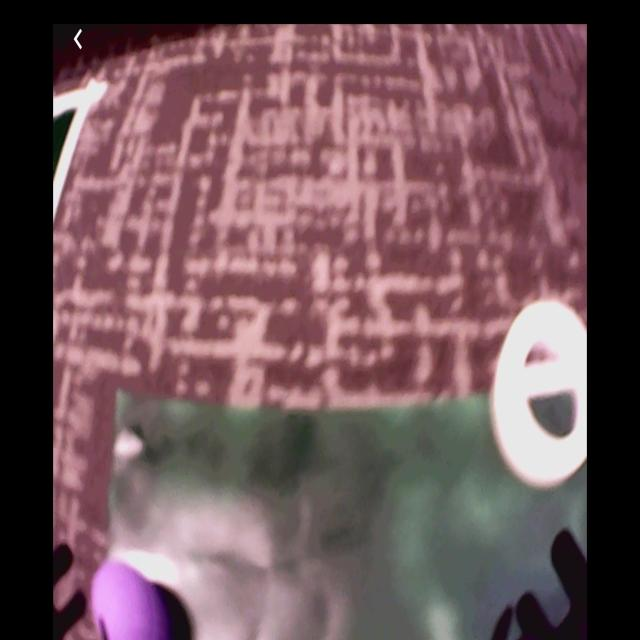ball: (91, 562, 166, 640)
